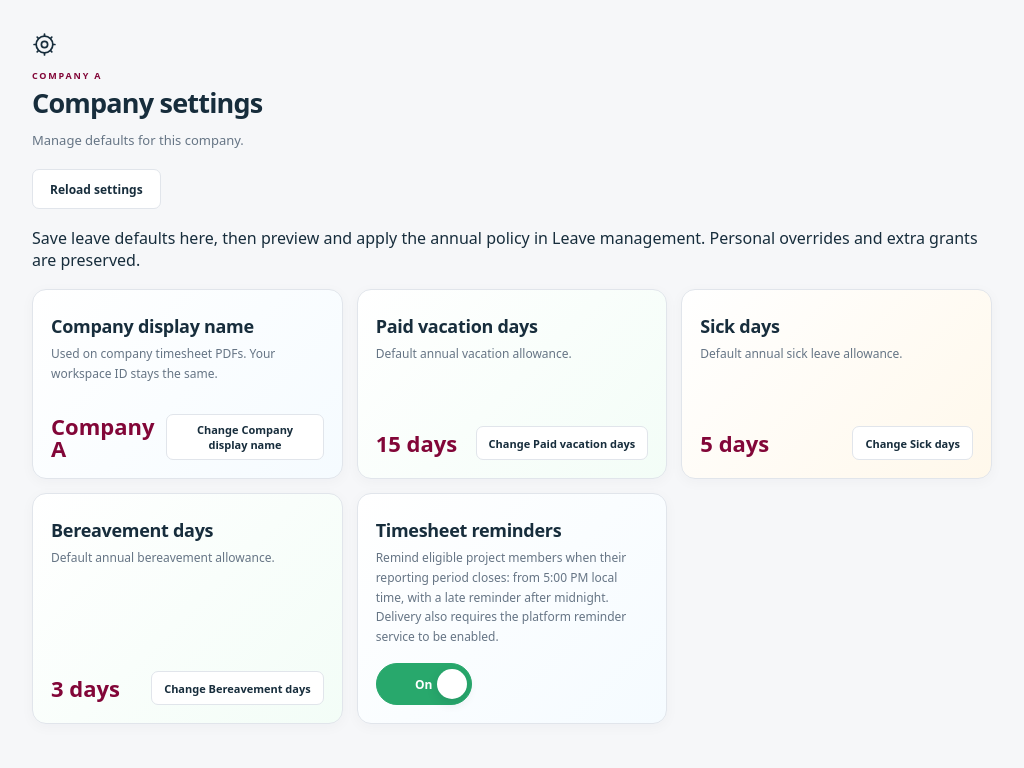
Scenario: loads and edits only selected-company settings with the expected revision
This screenshot has width=1024, height=768.
Click the button "Change Company display name": [245, 437] box [166,414,324,460]
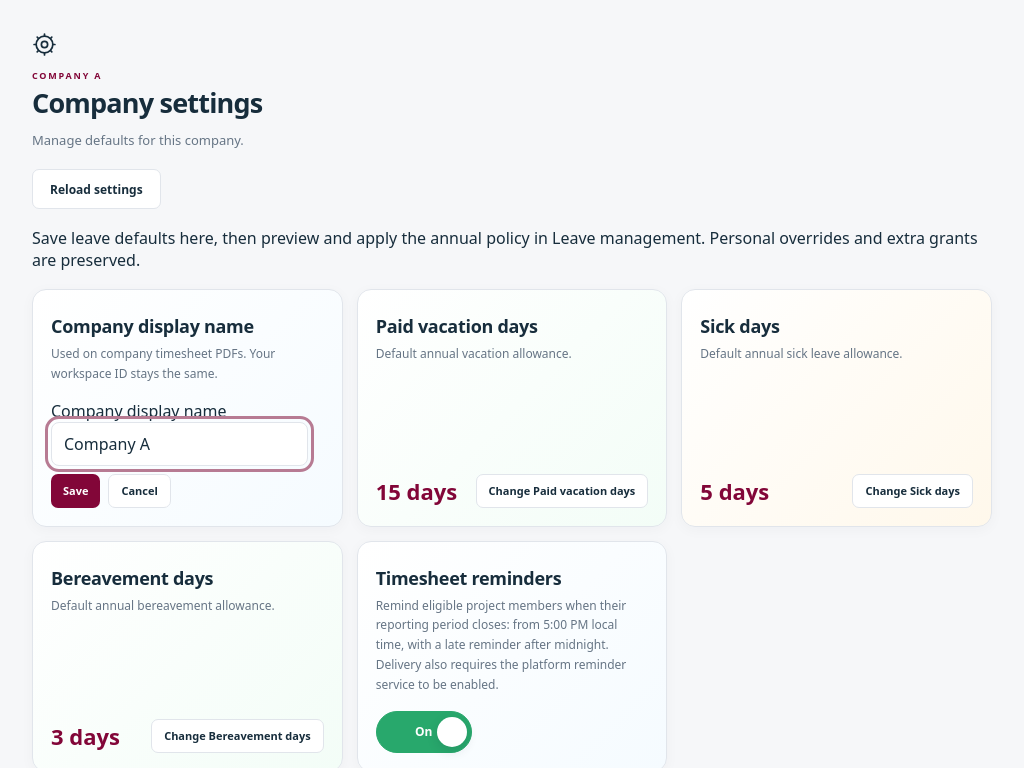
Replace the text in the field labelled "Company display name" with "A Limited": [180, 444] box [51,422,308,466]
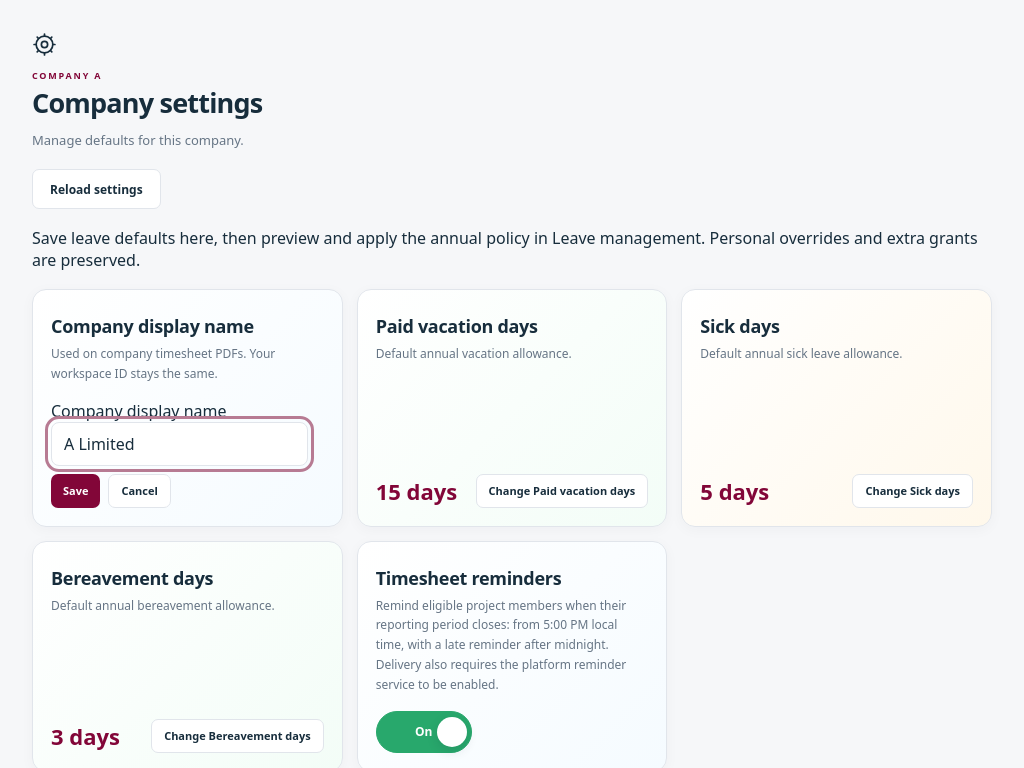
Click the button "Save": [76, 491] box [51,474,100,508]
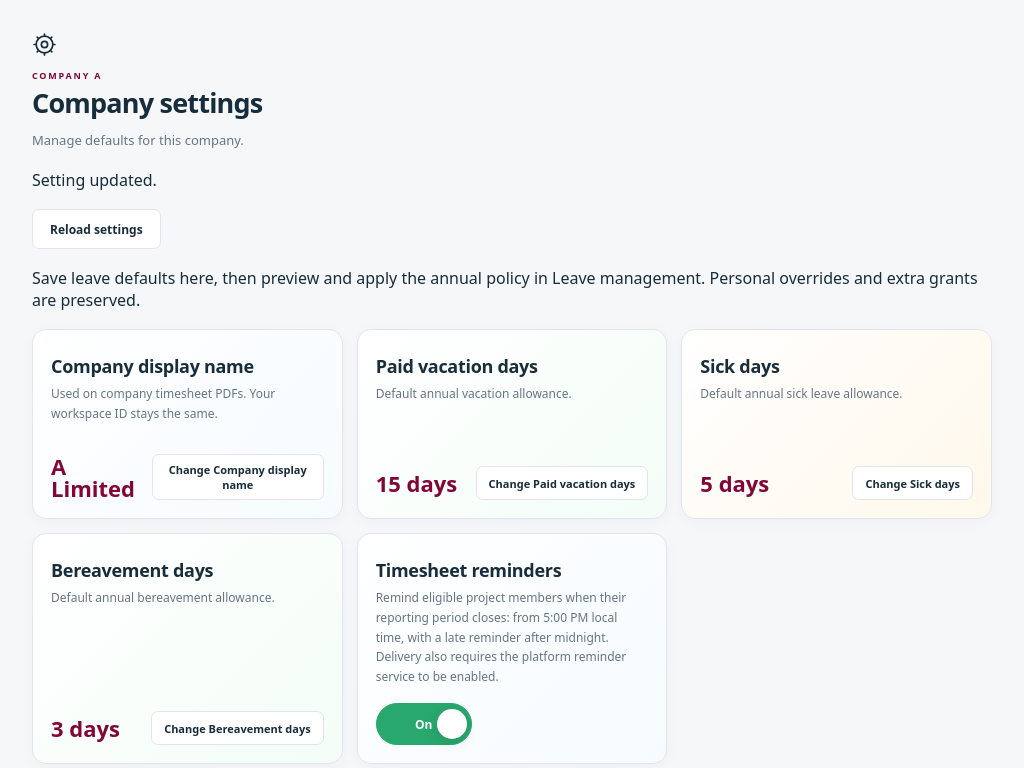
expect the message reads "Setting updated.": met, box [32,169,157,191]
